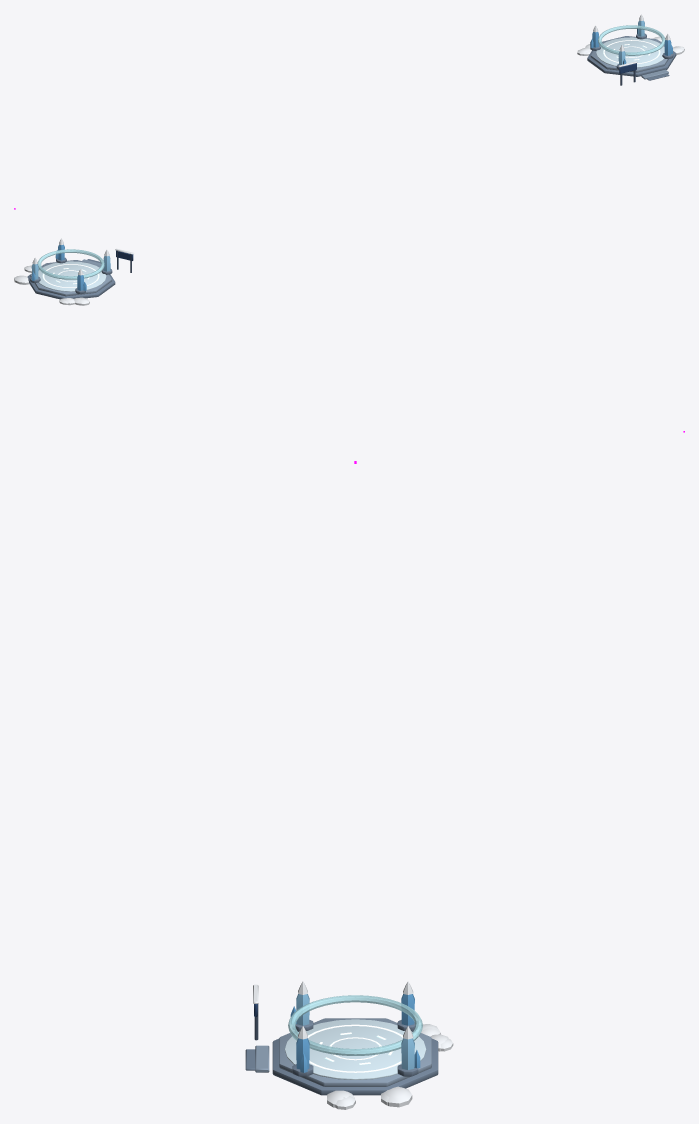
File: W1_Travel.fbx
The picture shows the model from 3 angles, top to bottom: view 1: azimuth 30°, elevation 25°; view 2: azimuth 150°, elevation 25°; view 3: azimuth 270°, elevation 25°; orthographic projection. The views are drawn at different scales.
Parts seen in each view (by area): view 1: T_TravelPad__IceTop__DDF3FFSP, T_TravelPad__Ring__BDF4FFNET35, T_TravelPad__Base__72859CSP, T_TravelPad__Base2__8EA2B8SP, T_TravelPad__Snow__F6FAFFSP; view 2: T_TravelPad__IceTop__DDF3FFSP, T_TravelPad__Ring__BDF4FFNET35, T_TravelPad__Snow__F6FAFFSP, T_TravelPad__Base2__8EA2B8SP, T_TravelPad__Base__72859CSP; view 3: T_TravelPad__IceTop__DDF3FFSP, T_TravelPad__Ring__BDF4FFNET35, T_TravelPad__Snow__F6FAFFSP, T_TravelPad__Base2__8EA2B8SP, T_TravelPad__Base__72859CSP.
Boxes of the visible parts, box(x1,y1,x2,y2) form: T_TravelPad__IceTop__DDF3FFSP: box(596, 37, 664, 67); T_TravelPad__Ring__BDF4FFNET35: box(598, 25, 665, 55); T_TravelPad__Base__72859CSP: box(587, 41, 676, 76); T_TravelPad__Base2__8EA2B8SP: box(590, 36, 668, 72); T_TravelPad__Snow__F6FAFFSP: box(577, 14, 684, 67); T_TravelPad__IceTop__DDF3FFSP: box(38, 261, 106, 291); T_TravelPad__Ring__BDF4FFNET35: box(37, 249, 104, 279); T_TravelPad__Snow__F6FAFFSP: box(14, 238, 133, 305); T_TravelPad__Base2__8EA2B8SP: box(30, 260, 111, 296); T_TravelPad__Base__72859CSP: box(27, 264, 115, 299); T_TravelPad__IceTop__DDF3FFSP: box(284, 1019, 426, 1079); T_TravelPad__Ring__BDF4FFNET35: box(288, 995, 422, 1055); T_TravelPad__Snow__F6FAFFSP: box(253, 981, 453, 1109); T_TravelPad__Base2__8EA2B8SP: box(279, 1018, 431, 1086); T_TravelPad__Base__72859CSP: box(272, 1038, 438, 1095).
Size of the model in its own units: 130 by 5.91 by 17.57.
